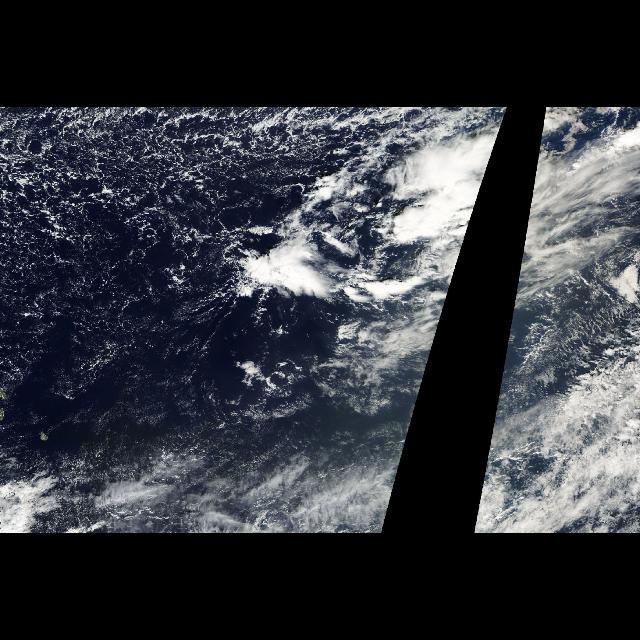Gravel: (0, 108, 334, 416)
Sugar: (2, 122, 310, 242), (3, 248, 215, 414)
